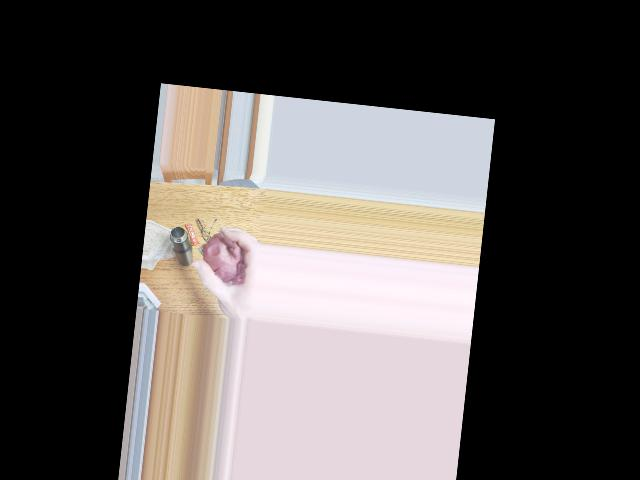onion: (207, 233, 240, 274)
